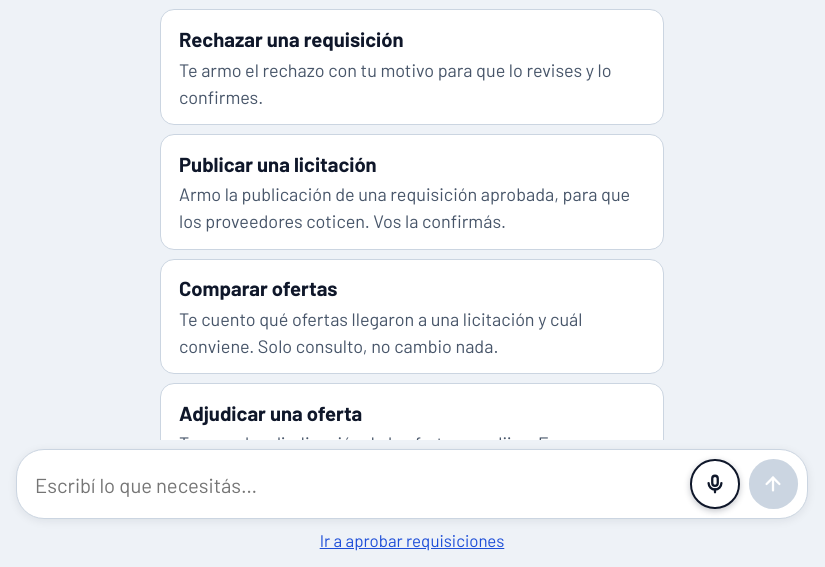
Test: AsistenteChatPage en el portal de Compras › si otra persona ya la resolvió (409) lo avisa y no dice que la aprobó
This screenshot has width=825, height=567.
(page scrolled)
Step 1. Type "aprobá la REQ-2026-0042" into the text box named "Escribí tu mensaje" → (358, 485), box [35, 461, 681, 509]
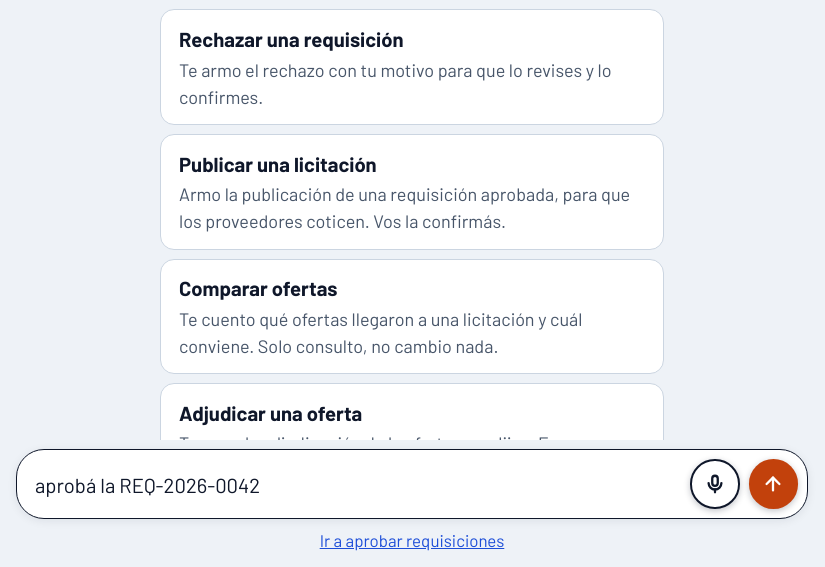
Step 2. Click the button named "Enviar" → (773, 484), box [748, 460, 798, 509]
(page scrolled)
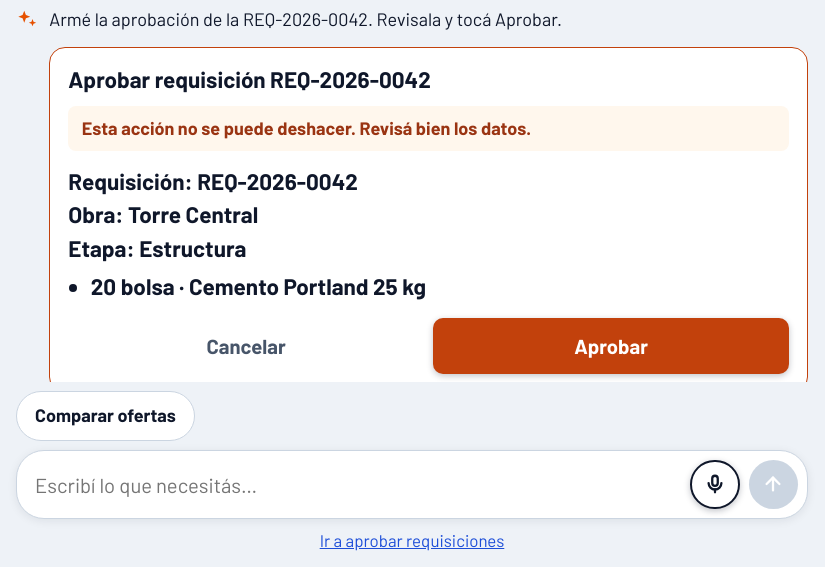
Step 3. Click the button "Aprobar" → (611, 346), box [433, 318, 789, 374]
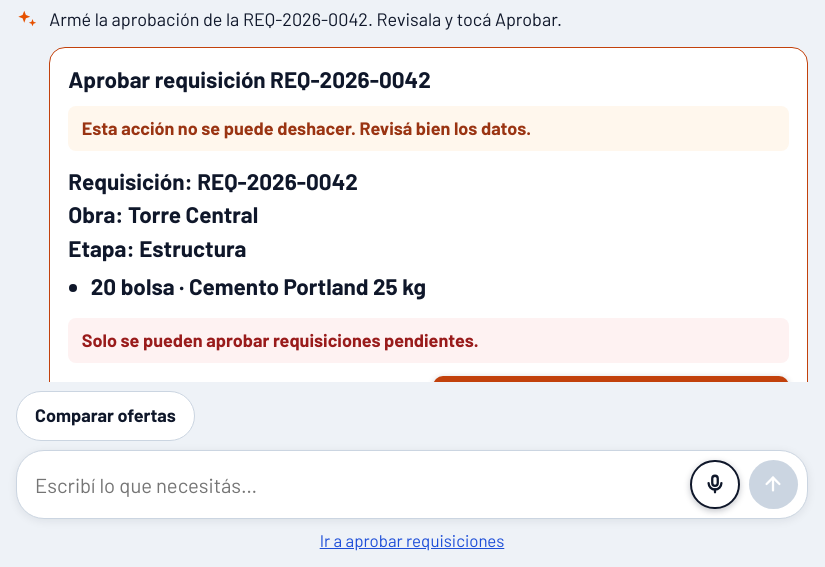
Expected: the button "Aprobar" is enabled, [433, 376, 789, 432]
Expected: the message reads "Solo se pueden aprobar requisiciones pendientes.", [82, 329, 479, 351]
